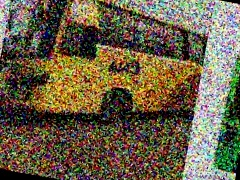bus: (0, 0, 213, 141)
